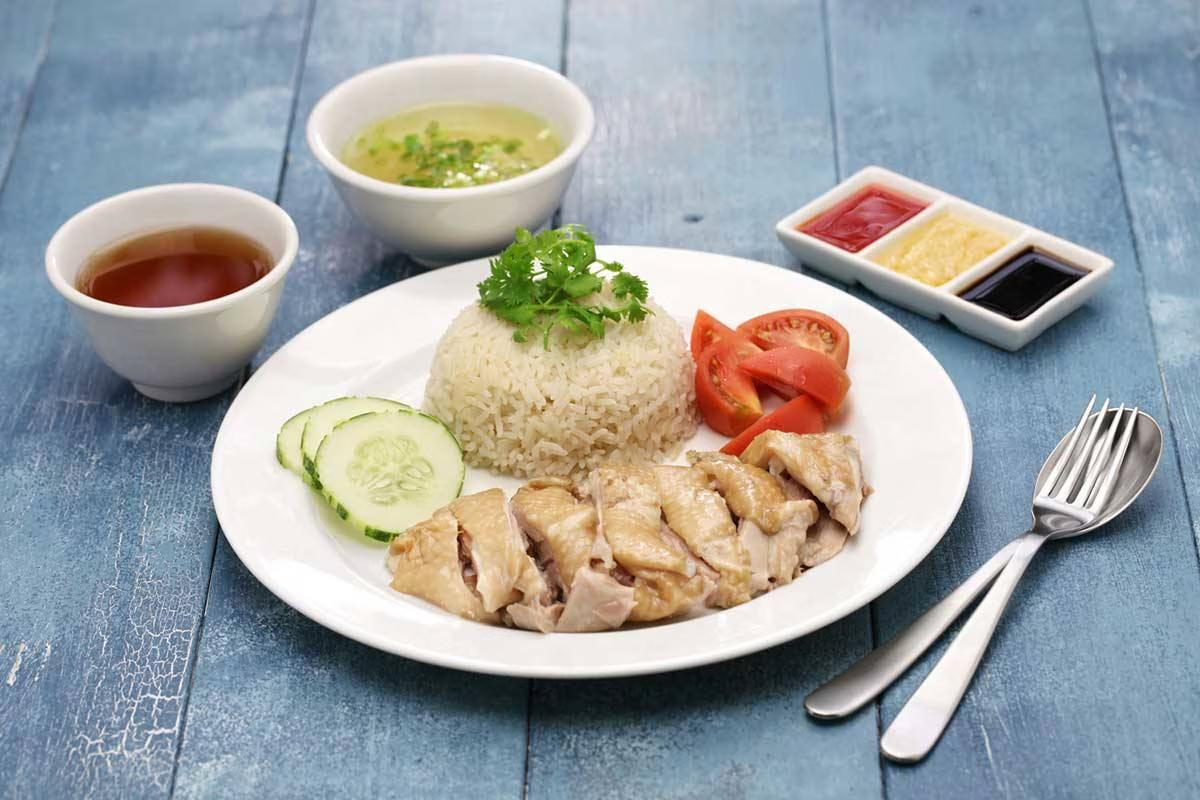buah_sayur_lainnya: (292, 419, 439, 494), (380, 129, 507, 178)
buah_sayur_vitA: (702, 329, 823, 416)
makanan_berpati: (482, 492, 771, 581), (473, 351, 653, 426)
